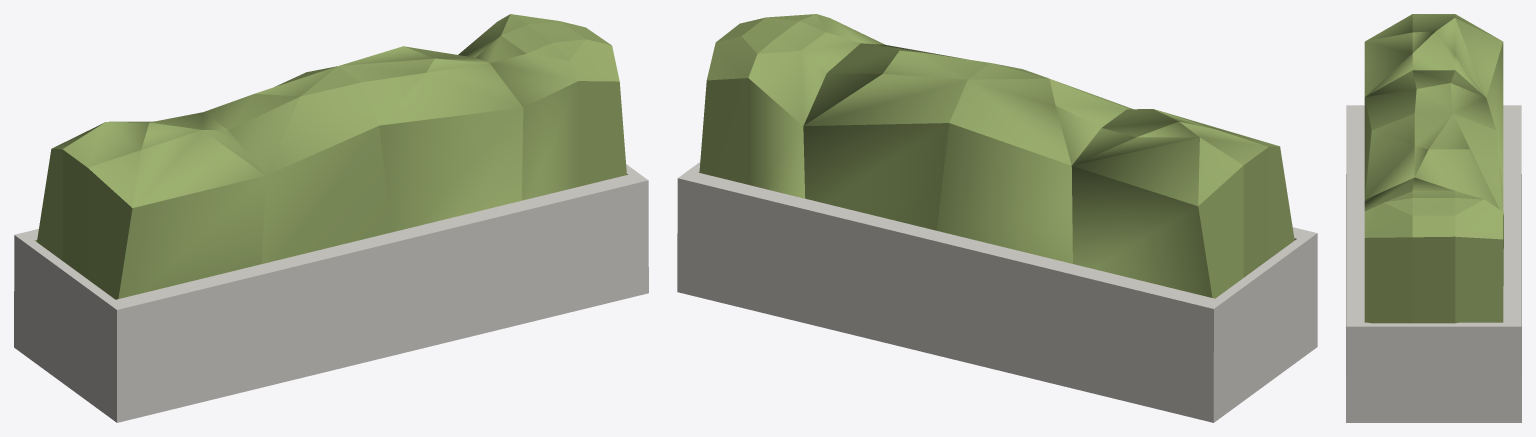
Rendered from plant_tub.fbx.
The picture shows the model from 3 angles, left to right: view 1: azimuth 30°, elevation 25°; view 2: azimuth 150°, elevation 25°; view 3: azimuth 270°, elevation 25°; orthographic projection. The views are drawn at different scales.
Parts seen in each view (by area): view 1: plant_pot.001; view 2: plant_pot.001; view 3: plant_pot.001.
Boxes of the visible parts, bbox=[...] form: plant_pot.001: bbox=[14, 14, 648, 422]; plant_pot.001: bbox=[677, 14, 1317, 422]; plant_pot.001: bbox=[1346, 14, 1521, 422].
Bounding box in the file's own units: 3 × 1.3 × 1.
